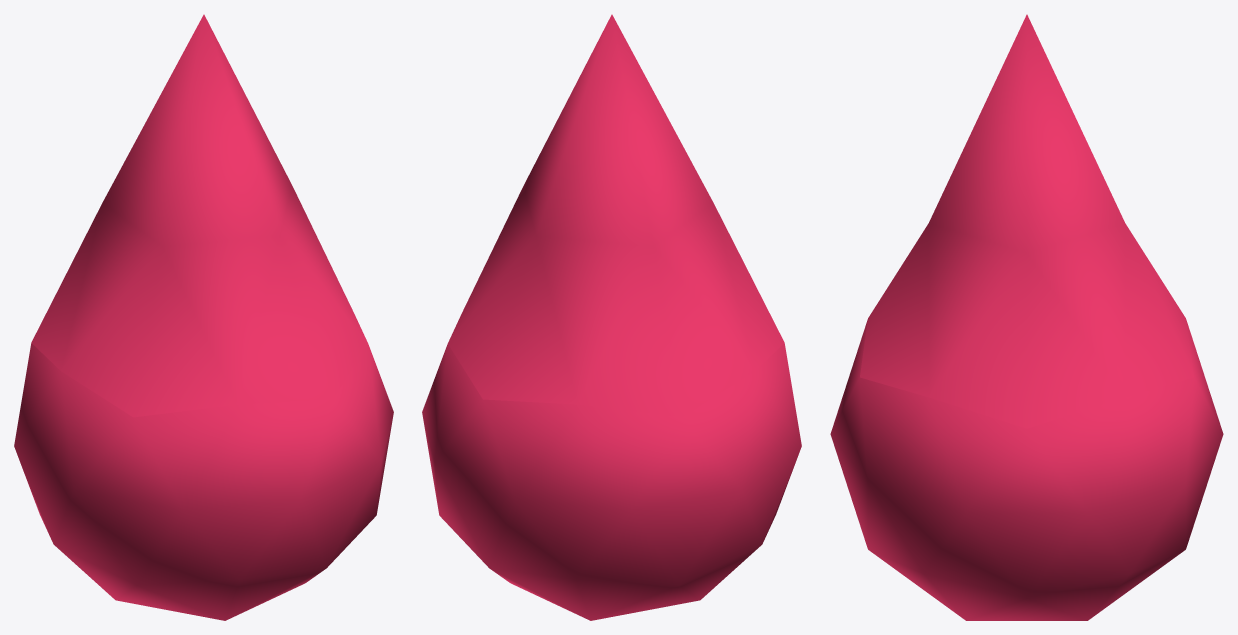
Rendered from waterdroplet.gltf.
3 views of the same model, side by side, from view 1: azimuth 30°, elevation 25°; view 2: azimuth 150°, elevation 25°; view 3: azimuth 270°, elevation 25° (orthographic).
Visible parts, largest first — view 1: Icosphere; view 2: Icosphere; view 3: Icosphere.
Boxes of the visible parts, x1,y1,x2,y2 form: Icosphere: (14, 14, 393, 620); Icosphere: (422, 14, 801, 620); Icosphere: (830, 14, 1223, 620).
Bounding box in the file's own units: 1.9 × 3.36 × 2.
